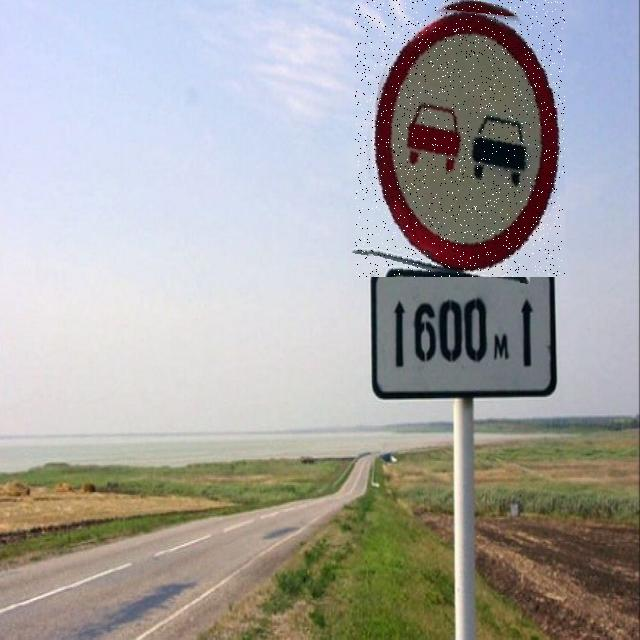no overtaking: (355, 0, 565, 277)
